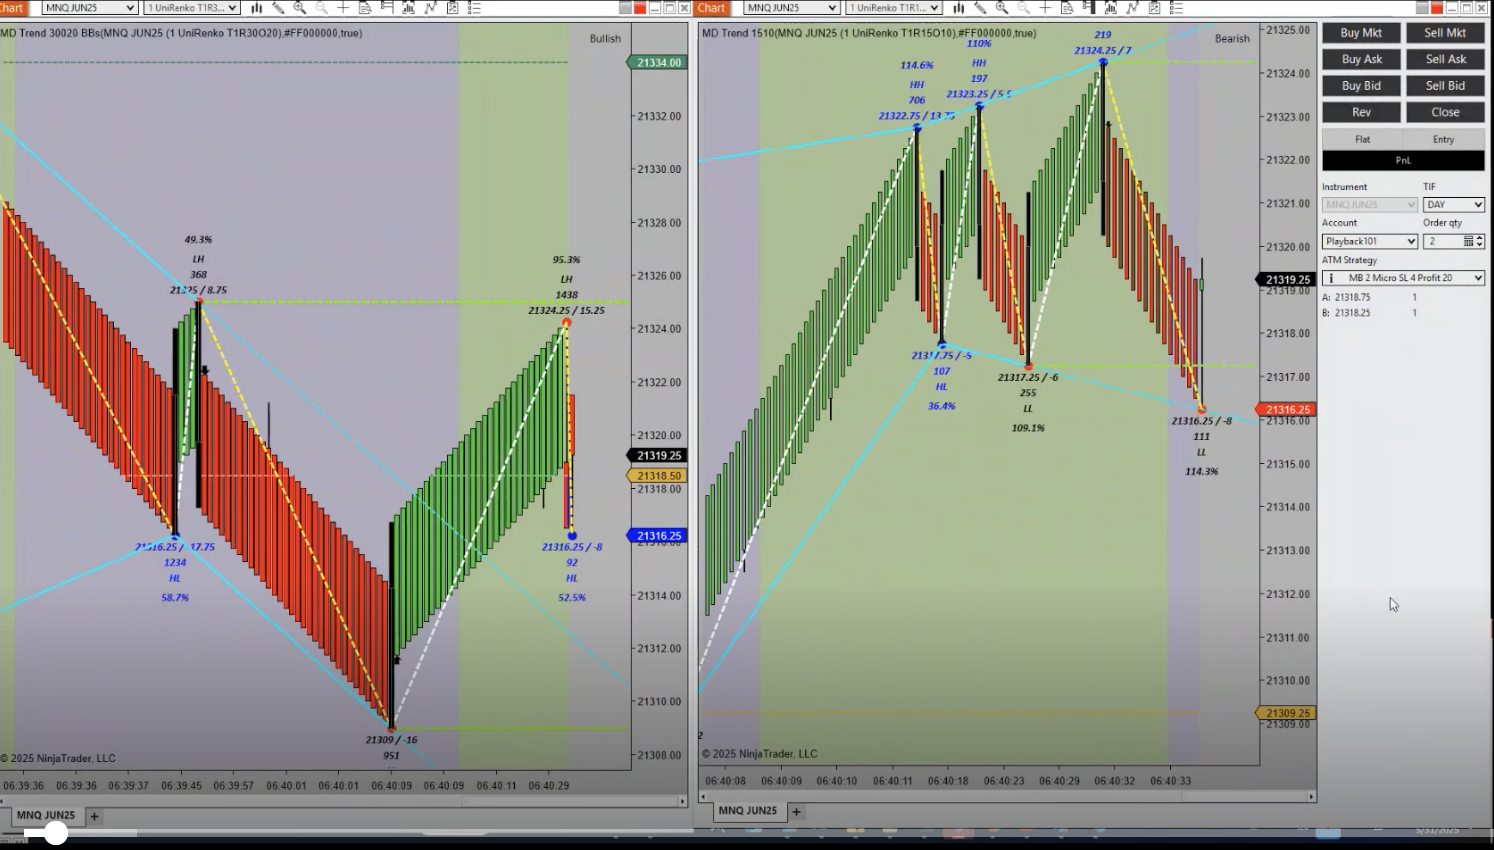candle: (170, 329, 178, 549), (194, 301, 200, 521), (386, 523, 392, 741), (937, 171, 944, 354), (1098, 61, 1105, 243), (974, 104, 980, 288), (1024, 191, 1030, 373), (913, 125, 919, 305)
